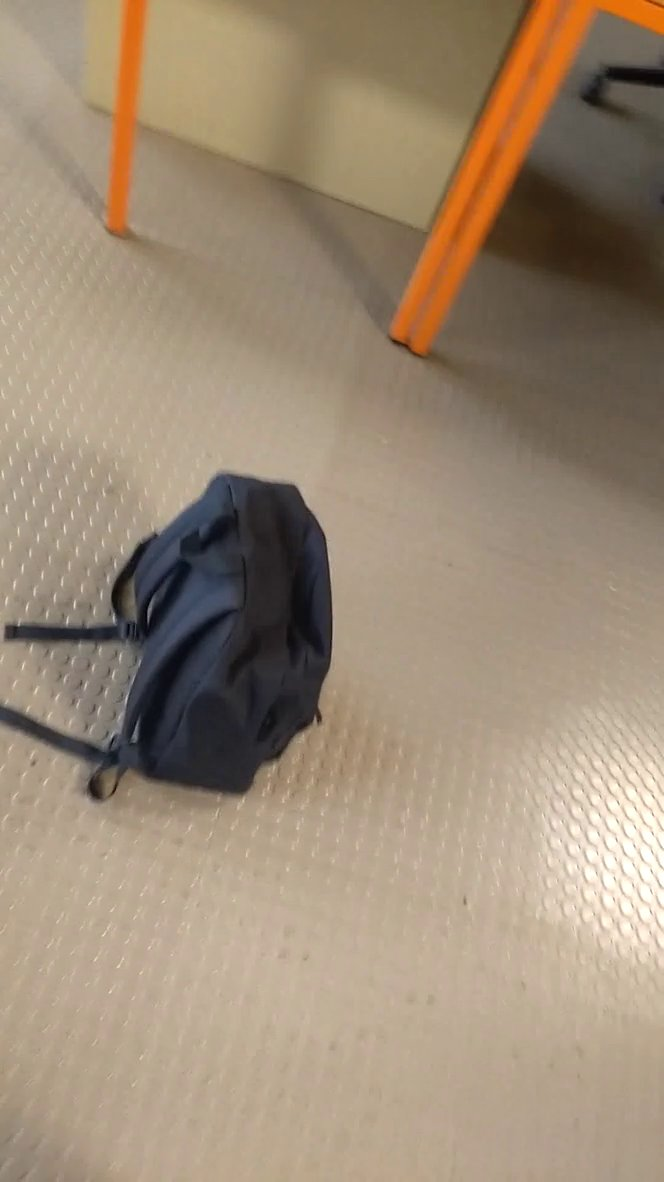bag: (1, 468, 368, 818)
